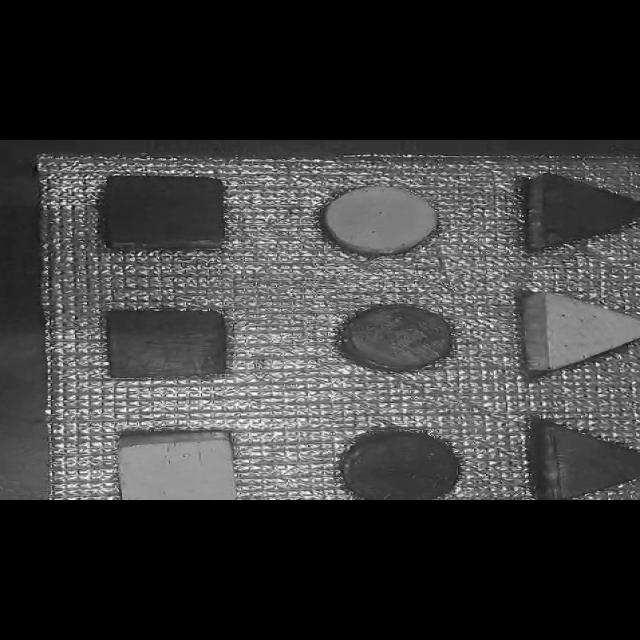bcircle: (330, 429, 475, 500)
bcube: (89, 302, 250, 387)
btriangle: (517, 169, 640, 257)
rcircle: (326, 295, 460, 378)
rcube: (92, 172, 232, 256)
rtriangle: (522, 415, 640, 505)
wb: (29, 154, 640, 499)
ycircle: (313, 186, 441, 262)
ycube: (96, 427, 255, 504)
ytriangle: (491, 286, 640, 372)
